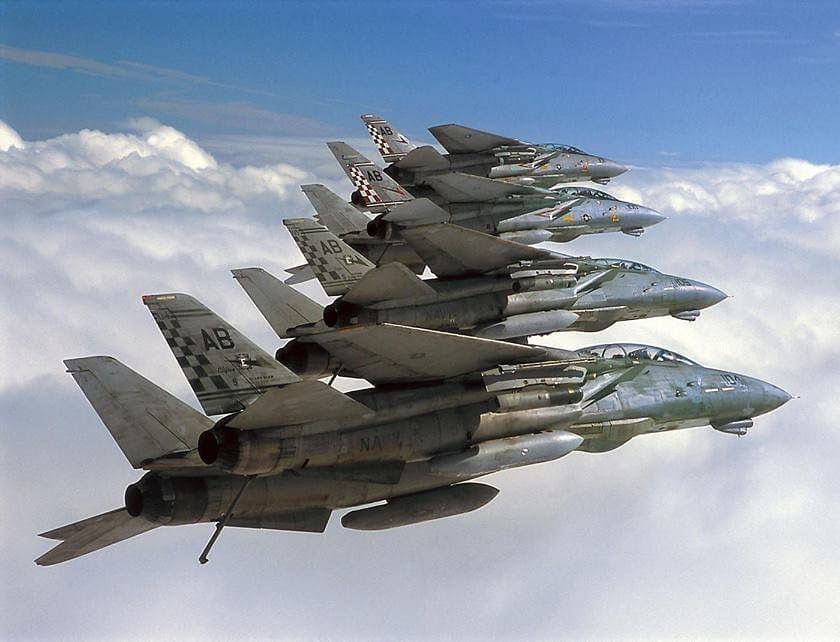F14: (33, 292, 801, 566), (230, 217, 735, 386), (284, 159, 672, 285), (311, 112, 633, 220)
